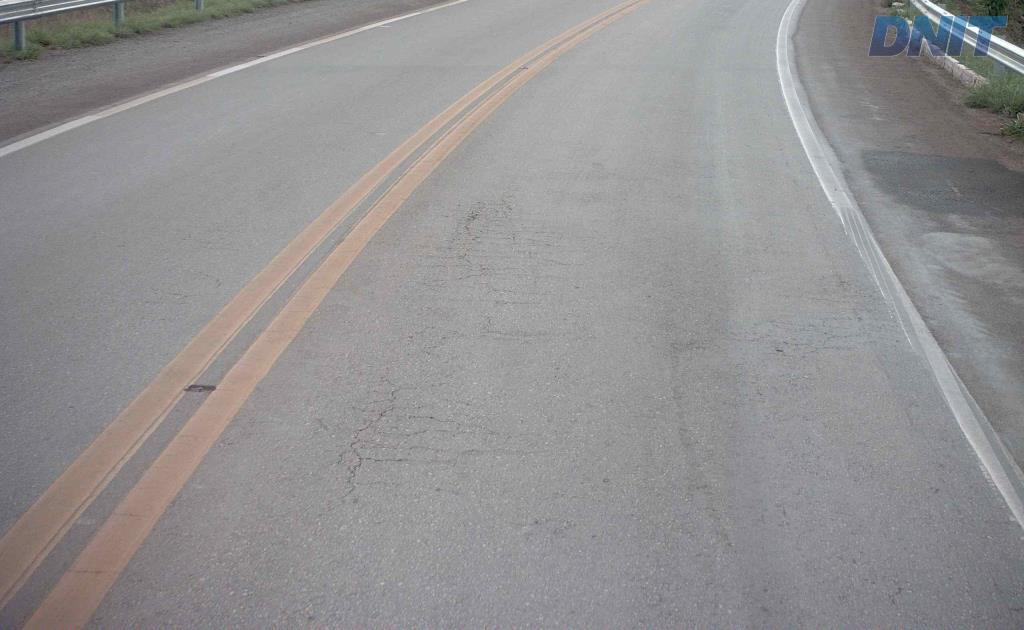crack: (445, 207, 512, 245)
